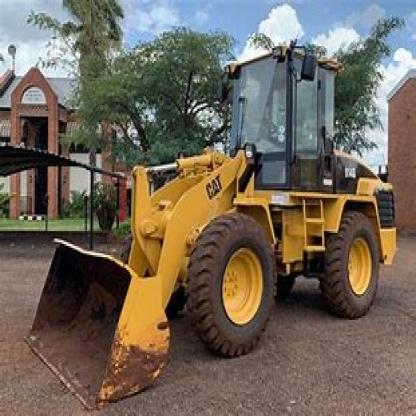bull_dozer/loader/grader: (23, 32, 401, 414)
